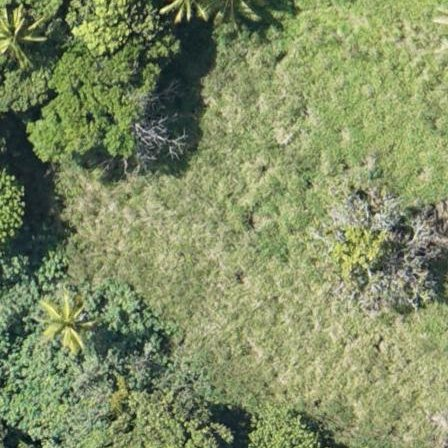palm_tree: (1, 5, 49, 63), (37, 296, 90, 347)
